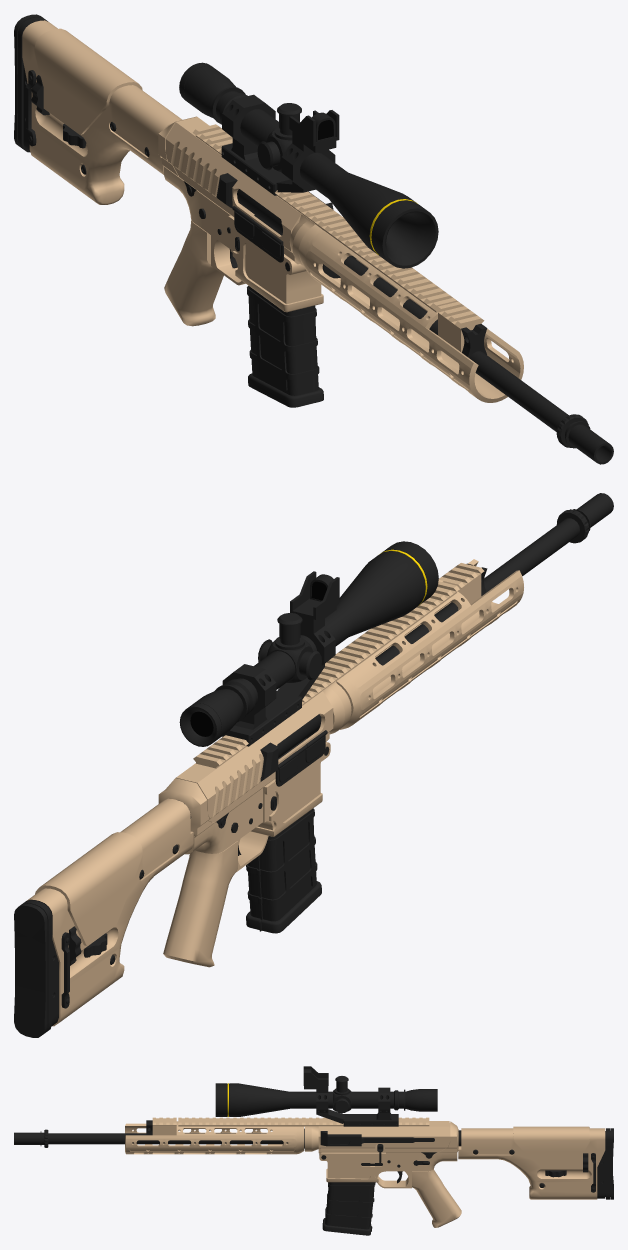
Rendered from rsass.glb.
3 renders of one model, top to bottom at view 1: azimuth 30°, elevation 25°; view 2: azimuth 150°, elevation 25°; view 3: azimuth 270°, elevation 25°, orthographic. The views are drawn at different scales.
Parts seen in each view (by area): view 1: Object_9, Object_7, Object_2, Object_8, Object_4; view 2: Object_9, Object_7, Object_2, Object_8; view 3: Object_9, Object_2, Object_7, Object_8.
Part boxes in pixels (x1,y1,x2,y2): Object_9: [158, 116, 523, 402]; Object_7: [14, 14, 613, 464]; Object_2: [22, 20, 245, 326]; Object_8: [179, 62, 438, 268]; Object_4: [237, 189, 282, 234]; Object_9: [158, 559, 523, 854]; Object_7: [14, 493, 613, 1037]; Object_2: [26, 798, 268, 1026]; Object_8: [179, 541, 438, 746]; Object_9: [125, 1117, 458, 1182]; Object_2: [377, 1126, 605, 1227]; Object_7: [14, 1066, 613, 1235]; Object_8: [215, 1069, 437, 1165].
Size of the model in its own units: 1.06 by 5.52 by 18.56.
